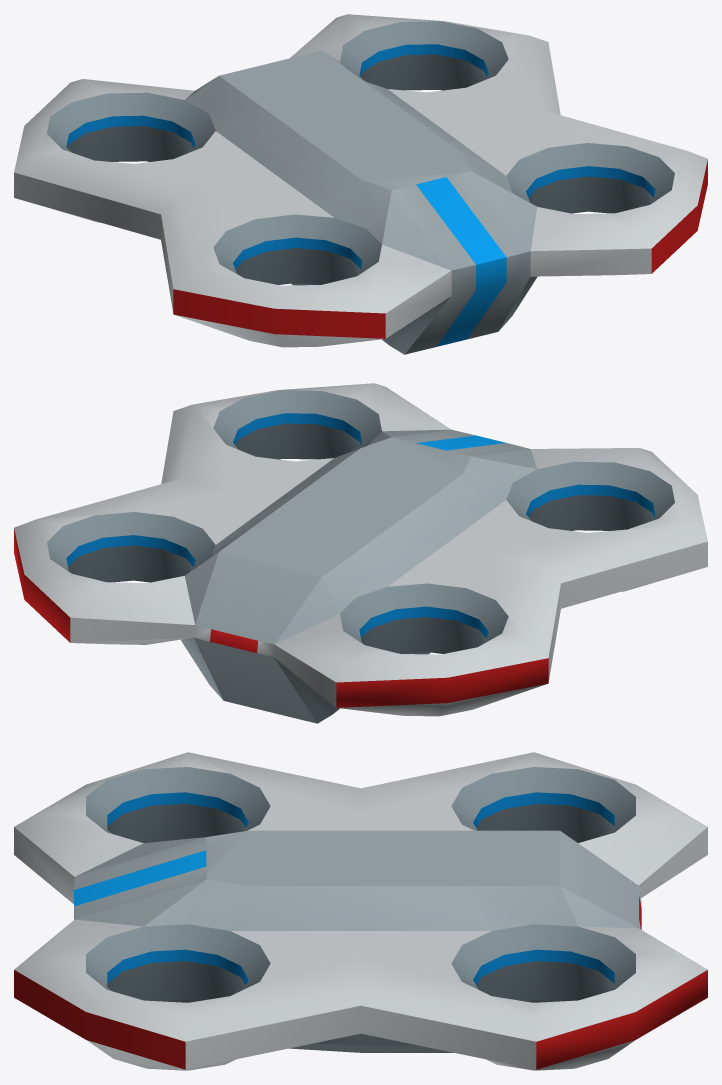
The model's file is Delivery_drone_011.fbx.
The picture shows the model from 3 angles, top to bottom: view 1: azimuth 30°, elevation 25°; view 2: azimuth 150°, elevation 25°; view 3: azimuth 270°, elevation 25°; orthographic projection. The views are drawn at different scales.
Visible parts, largest first — view 1: Delivery_drone_011; view 2: Delivery_drone_011; view 3: Delivery_drone_011.
Boxes of the visible parts, x1=… form: Delivery_drone_011: x1=14, y1=14, x2=707, y2=354; Delivery_drone_011: x1=14, y1=383, x2=707, y2=723; Delivery_drone_011: x1=14, y1=752, x2=707, y2=1070.
Bounding box in the file's own units: 112 × 115 × 29.7.
